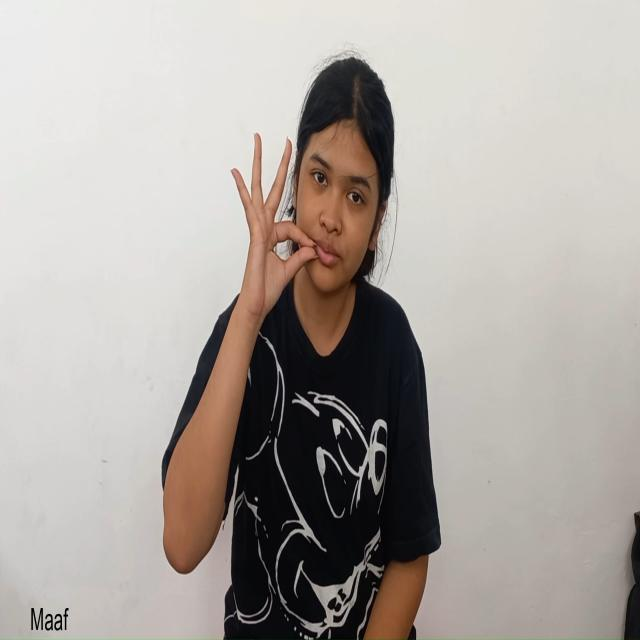Maaf -BISINDO-: (229, 56, 395, 335)
